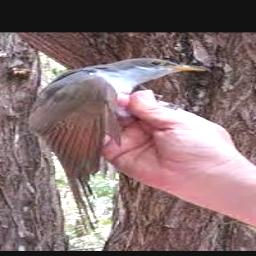Cuckoo: (28, 58, 209, 233)
